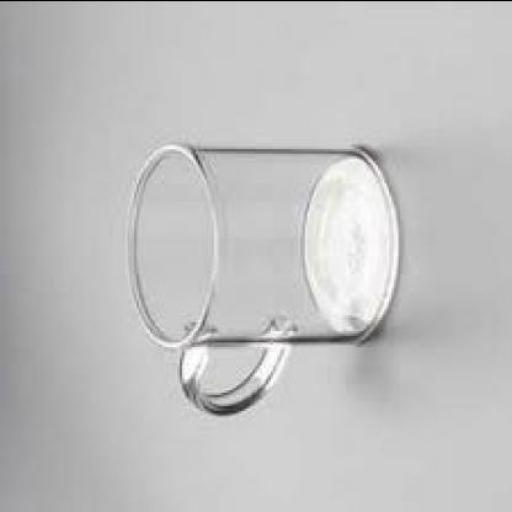glass: (123, 138, 398, 412)
